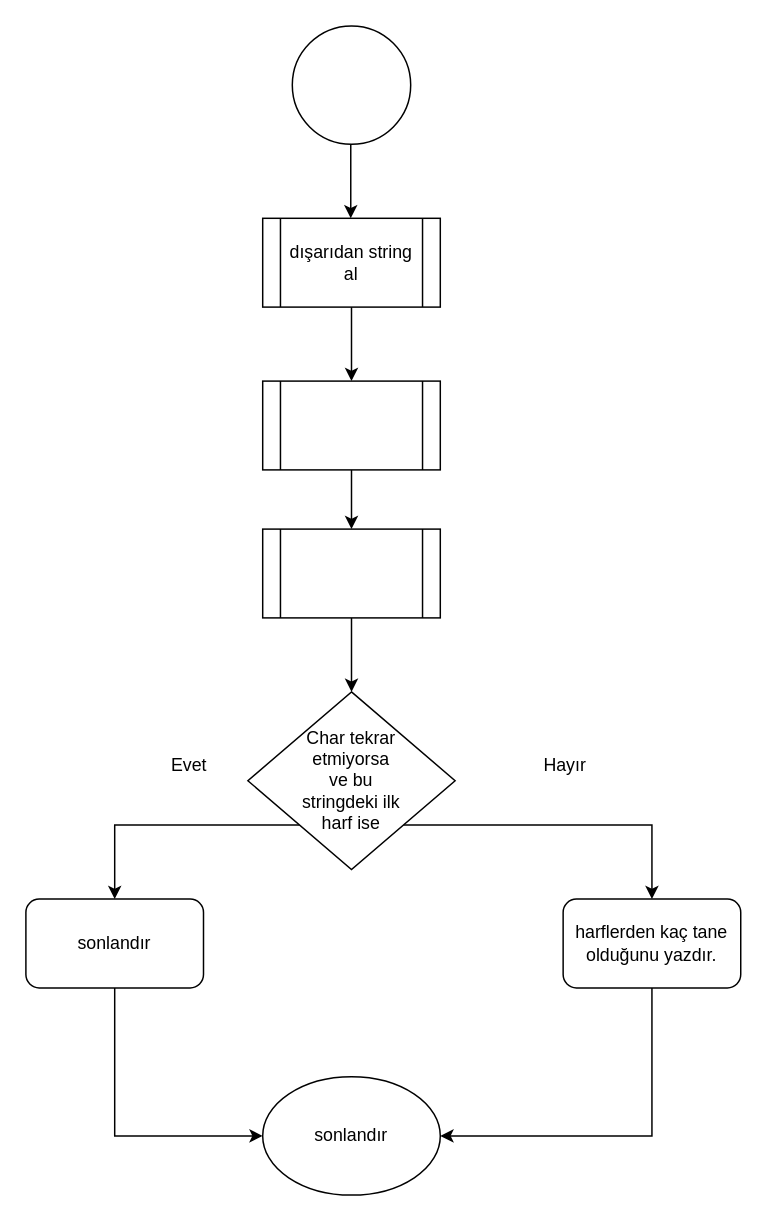
The diagram is 767 pixels wide and 1221 high, and some of its shapes have lost their labels. The centre of each missing label's shape, as x and y in pixels:
"Başla" belongs at point 351,84.
"string içindeki her charın uzunluğunu bul." belongs at point 350,573.
"stringin uzunluğunu bul" belongs at point 350,425.
